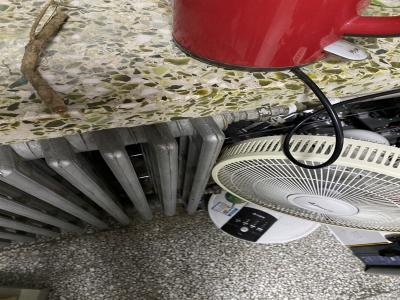Root: (21, 0, 69, 114)
